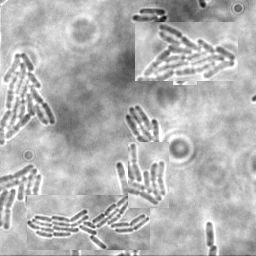Dividing: (204, 221, 215, 248)
Microcolony: (27, 195, 150, 250), (135, 22, 238, 81), (1, 51, 56, 147), (1, 162, 44, 231), (128, 142, 169, 208), (124, 106, 160, 153)
Rod: (173, 65, 197, 85)
